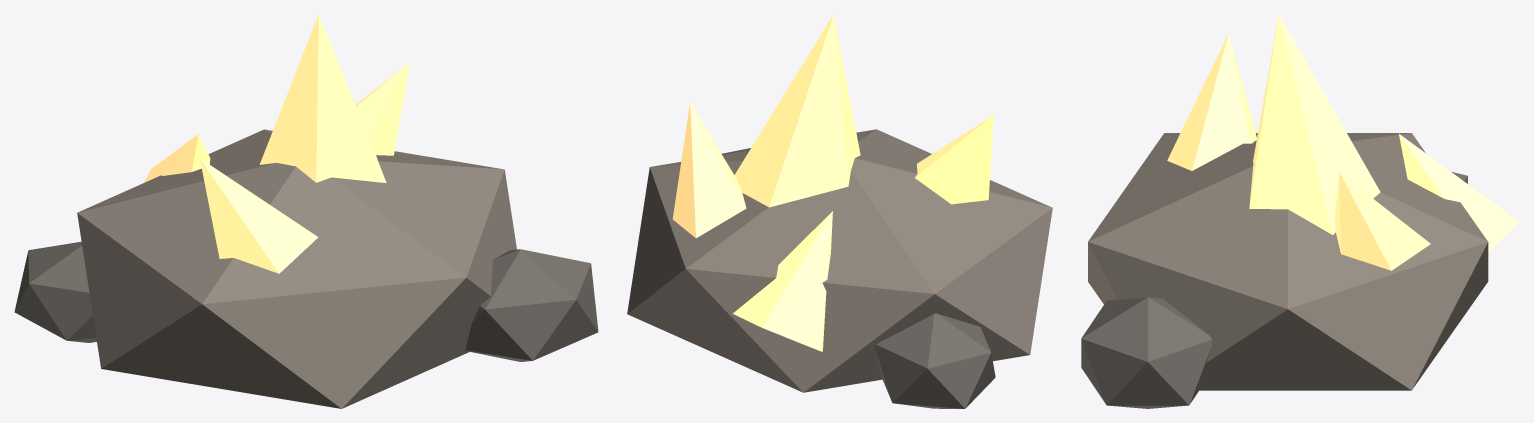
The model's file is ore_node-gUO9HepO.glb.
The picture shows the model from 3 angles, left to right: view 1: azimuth 30°, elevation 25°; view 2: azimuth 150°, elevation 25°; view 3: azimuth 270°, elevation 25°; orthographic projection. The views are drawn at different scales.
Visible parts, largest first — view 1: mound; view 2: mound; view 3: mound.
Part boxes in pixels (bbox=[...]): mound: bbox=[14, 14, 598, 408]; mound: bbox=[627, 14, 1052, 408]; mound: bbox=[1081, 14, 1519, 408].
Bounding box in the file's own units: 1 × 0.8111 × 0.8834.
